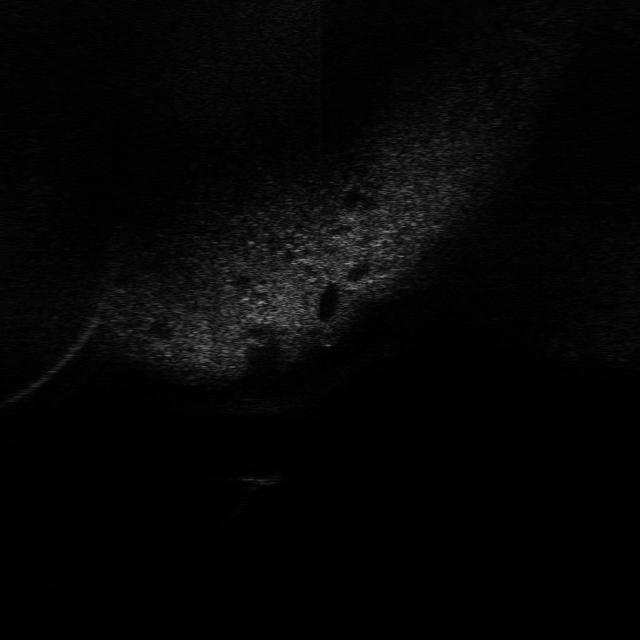ball: (314, 322, 342, 350)
cube: (236, 464, 284, 489)
